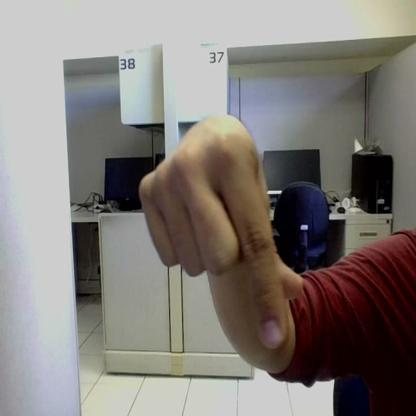Q: (140, 127, 303, 346)
